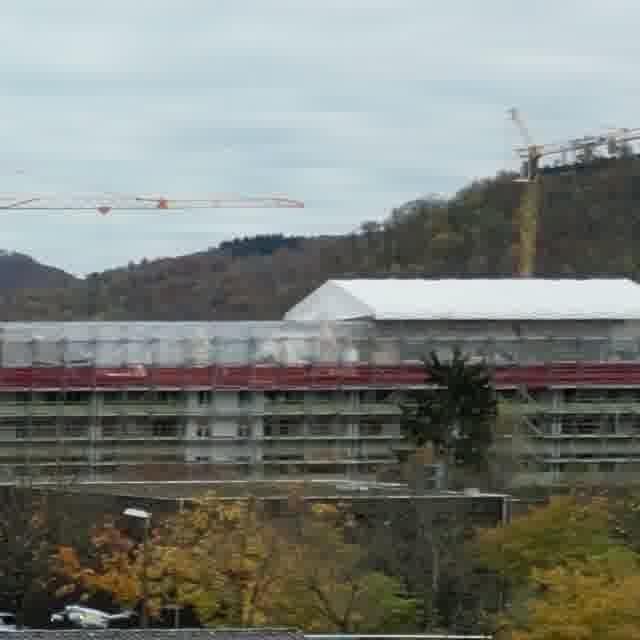Drohne: (50, 604, 136, 628)
